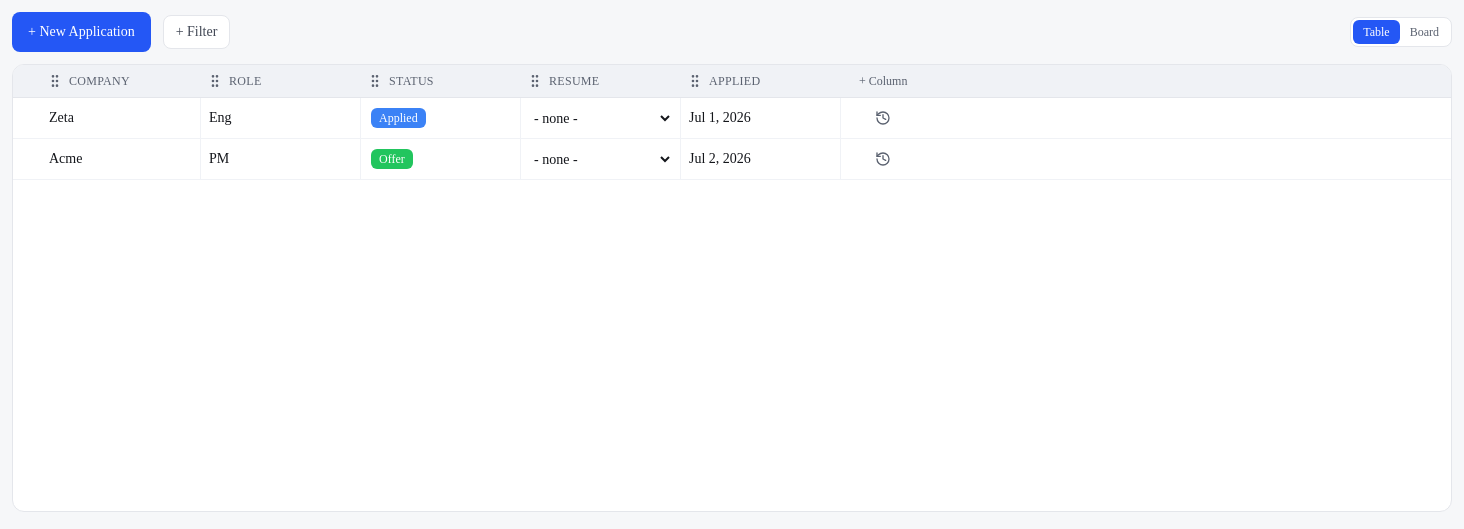
Test case: ApplicationsView view toggle › defaults to the table and switches to the Kanban board, persisting the choice
This screenshot has width=1464, height=529.
Expected: the table named "Applications" is shown, [13, 65, 1451, 180]
Click the button "Board" at (1424, 32), box [1400, 20, 1449, 44]
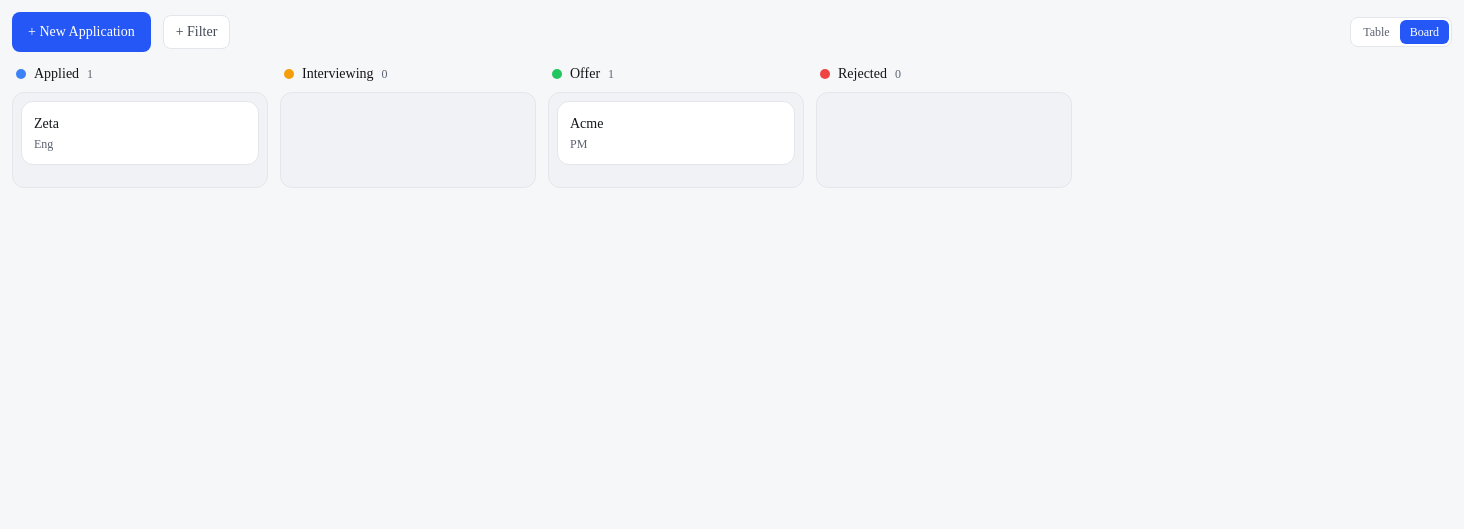
Expected: the table "Applications" is gone
Expected: the element named "Applied column" is shown, [12, 64, 268, 188]
